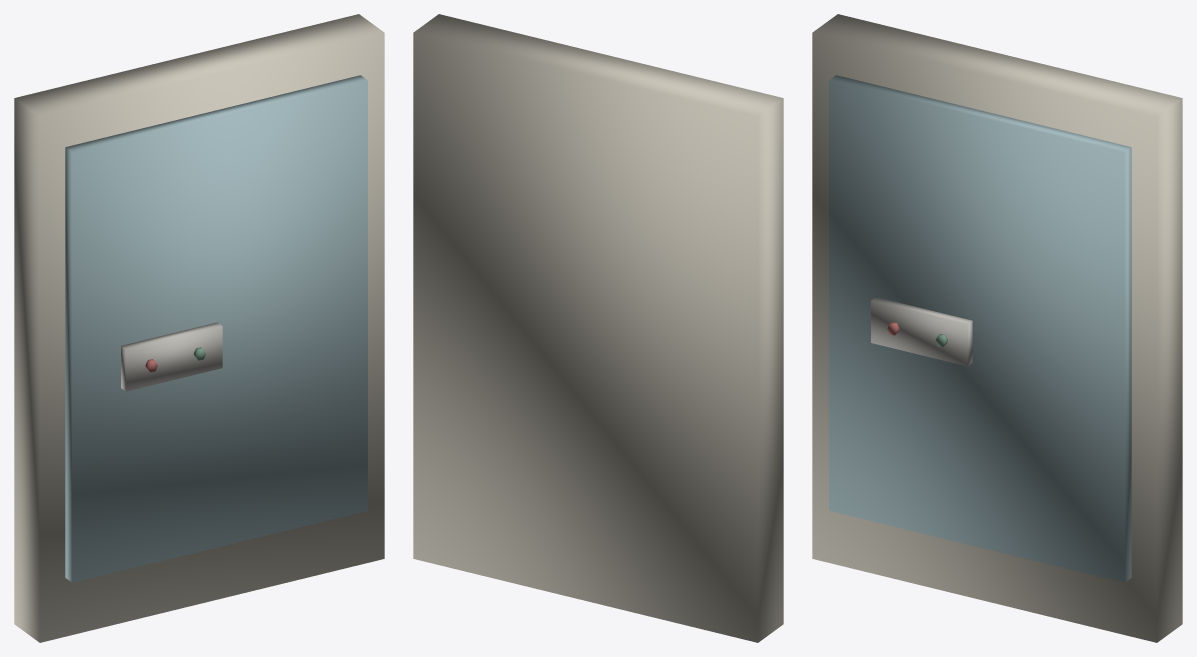
The model's file is x_ray_lightbox__tall.glb.
3 renders of one model, left to right at view 1: azimuth 30°, elevation 25°; view 2: azimuth 150°, elevation 25°; view 3: azimuth 330°, elevation 25°, orthographic.
Visible parts, largest first — view 1: world; view 2: world; view 3: world.
Part boxes in pixels (x1=…): world: x1=14, y1=14, x2=384, y2=642; world: x1=413, y1=14, x2=783, y2=642; world: x1=812, y1=14, x2=1182, y2=642.
Bounding box in the file's own units: 0.7 × 1.02 × 0.1485.
